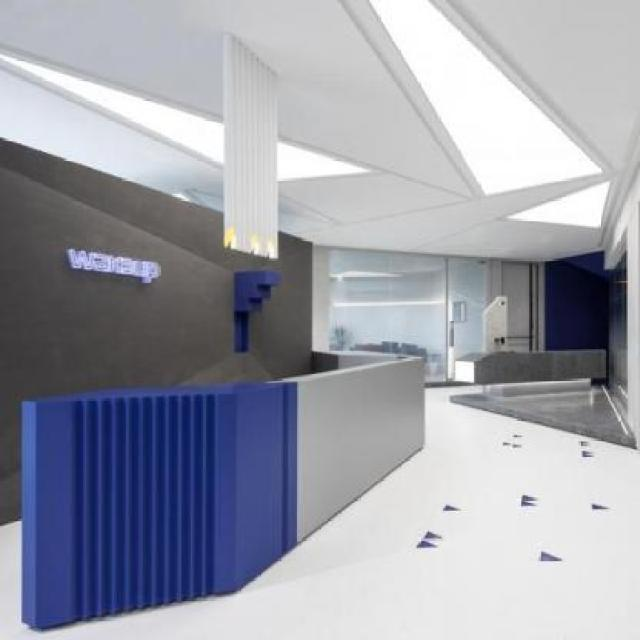frontdesk: (18, 340, 430, 640)
